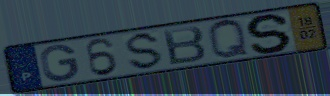6: (84, 37, 120, 78)
B: (161, 25, 209, 67)
G: (38, 43, 81, 83)
Q: (206, 19, 253, 61)
S: (244, 13, 294, 55), (125, 30, 166, 72)
